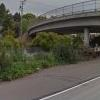Bridge: (25, 7, 98, 42)
